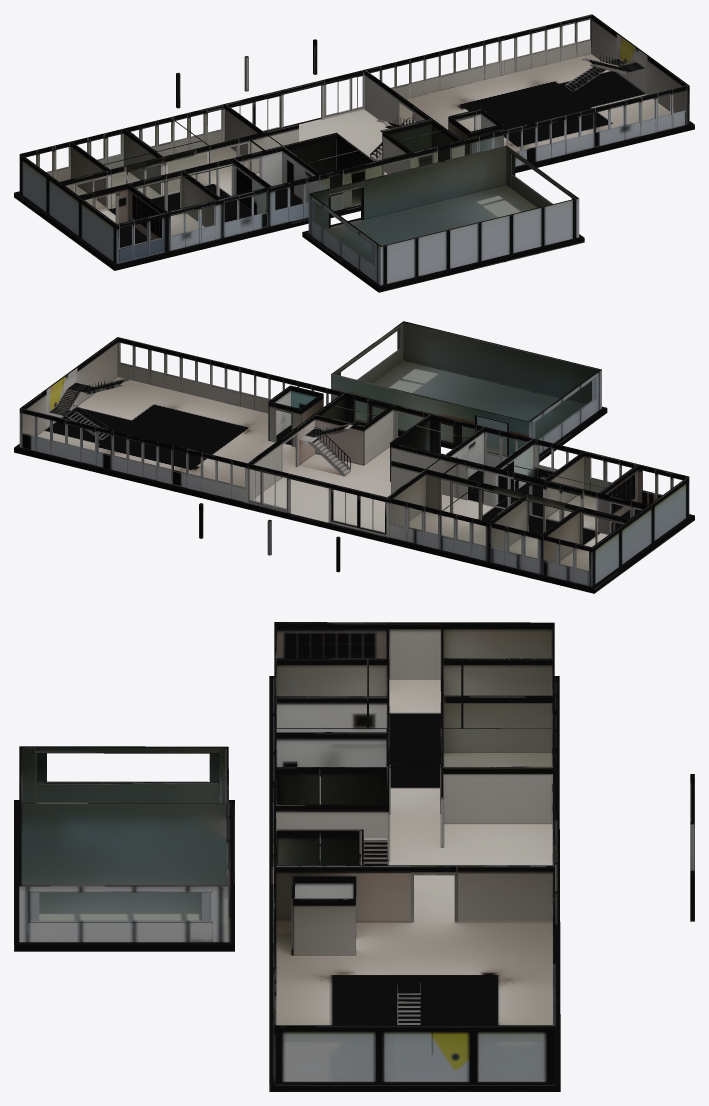
Rendered from world_shell0.glb.
3 views of the same model, one above another, from view 1: azimuth 30°, elevation 25°; view 2: azimuth 150°, elevation 25°; view 3: azimuth 270°, elevation 25° (orthographic). The views are drawn at different scales.
Parts seen in each view (by area): view 1: W_shell0; view 2: W_shell0; view 3: W_shell0.
Boxes of the visible parts, bbox=[...] form: W_shell0: bbox=[14, 14, 694, 292]; W_shell0: bbox=[14, 321, 694, 593]; W_shell0: bbox=[14, 622, 694, 1091].
Bounding box in the file's own units: 38.1 × 2.92 × 26.81.
Materials: 1 (1 with a texture image).
